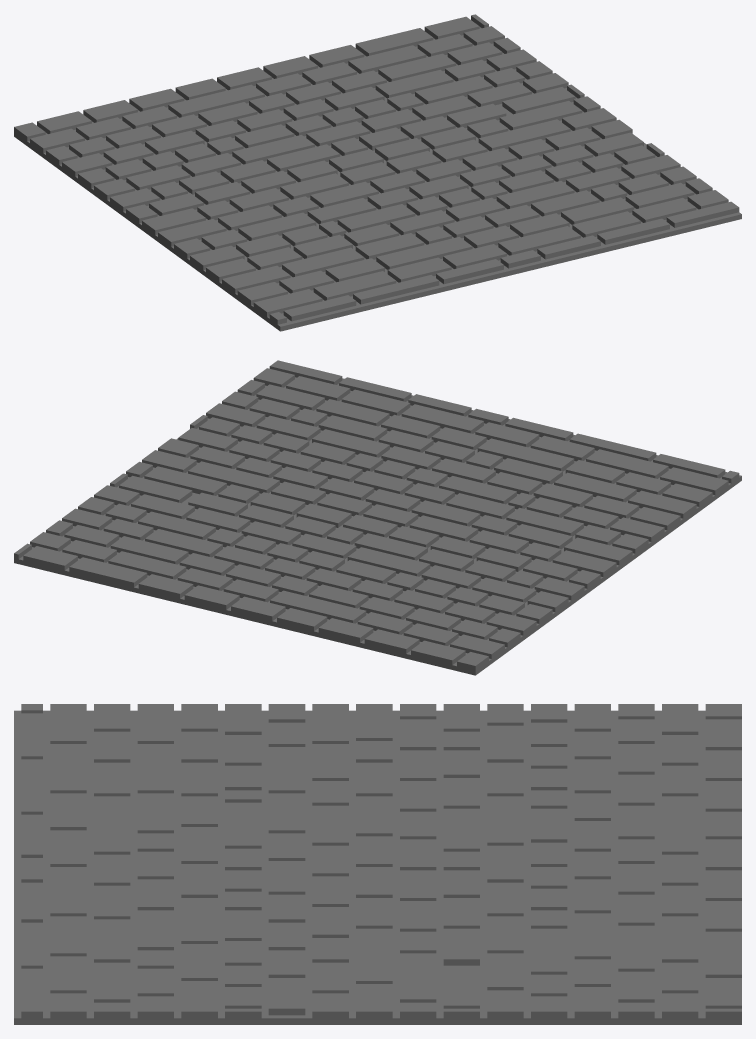
The model's file is Floor3.obj.
The picture shows the model from 3 angles, top to bottom: view 1: azimuth 30°, elevation 25°; view 2: azimuth 150°, elevation 25°; view 3: azimuth 270°, elevation 25°; orthographic projection. The views are drawn at different scales.
Size of the model in its own units: 10 by 0.2 by 10.
1 material, 1 textured.
